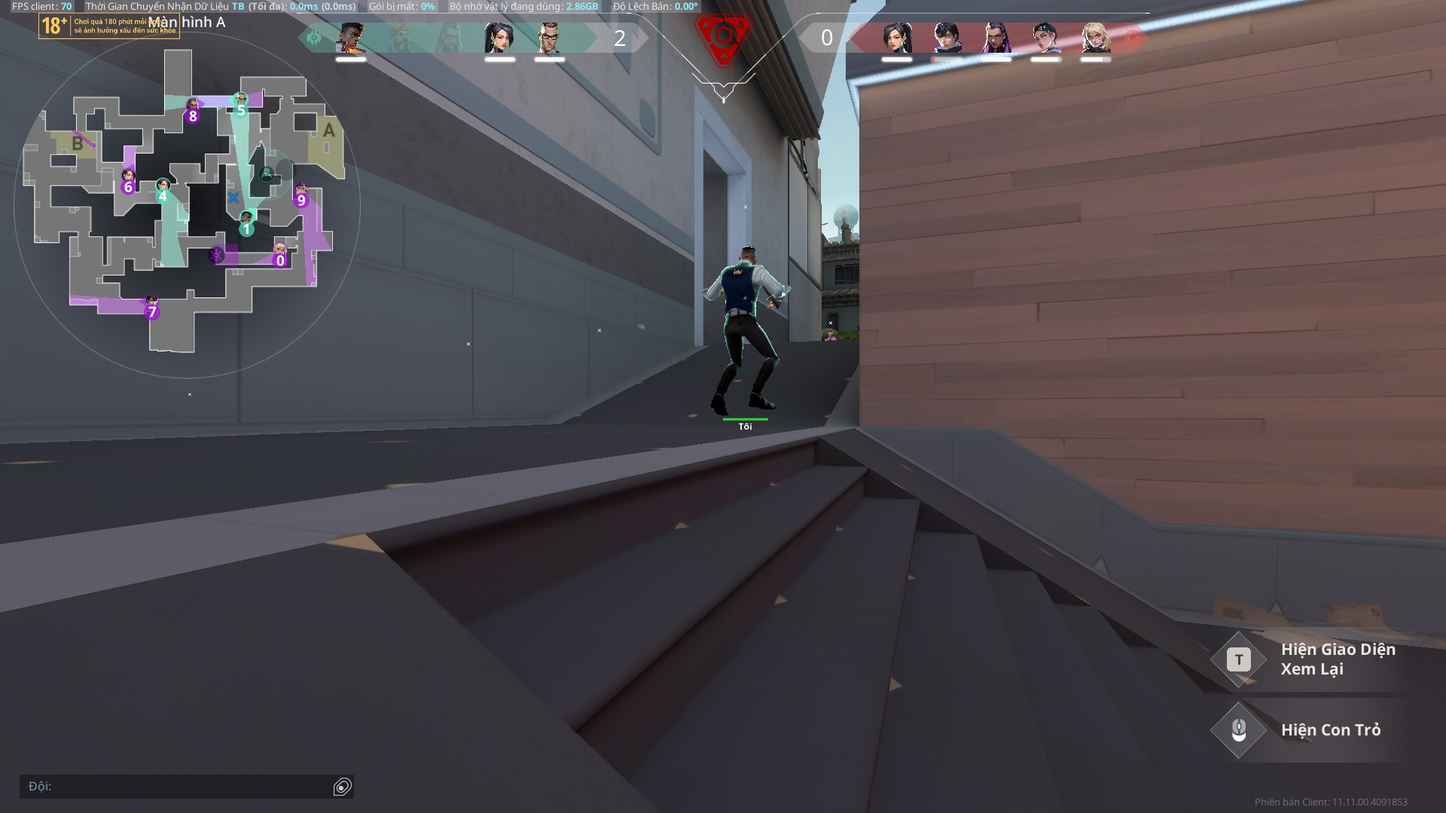body: (826, 336, 835, 340)
head: (828, 330, 833, 336)
